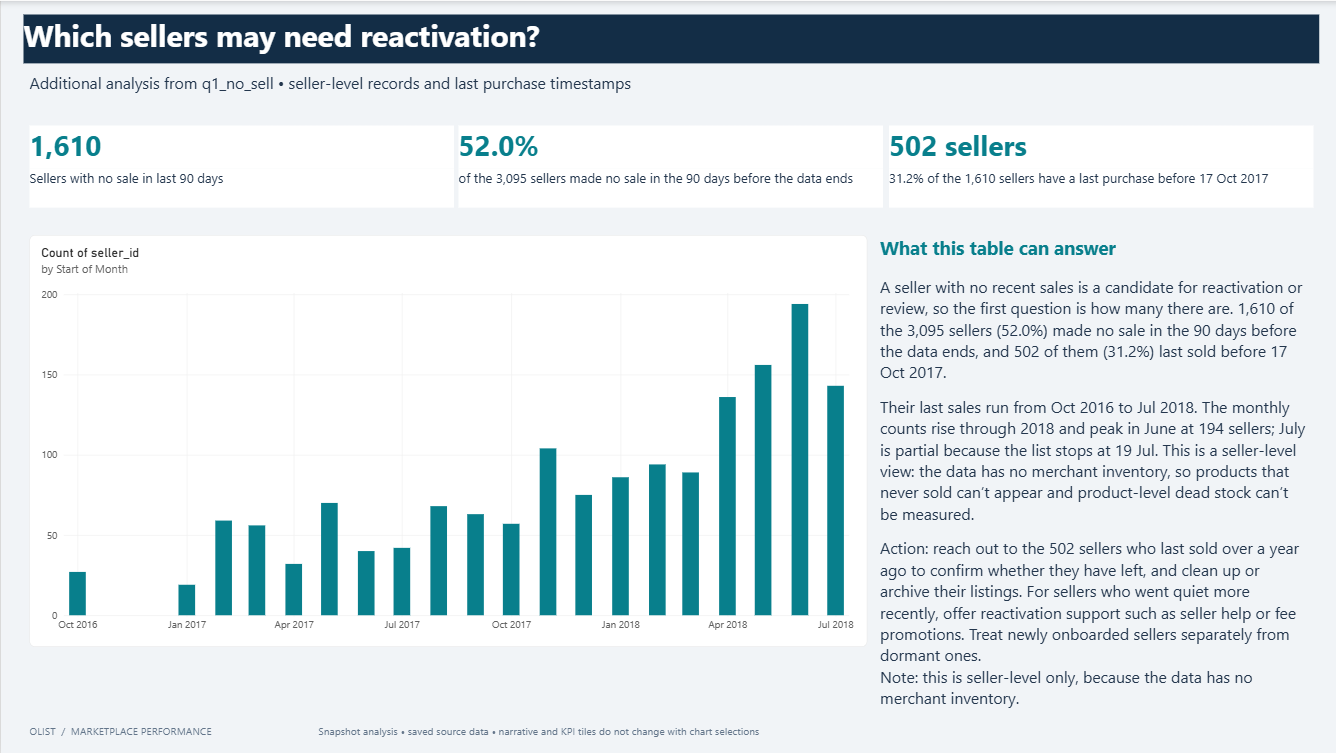

The page's visual inventory and layout, read from the dashboard file:
{"tool":"powerbi","page":{"name":"07 | Seller inactivity","canvas":[1920,1080],"ordinal":6},"visuals":[{"type":"textbox","box":[32,20,1856,70],"z":0},{"type":"textbox","box":[40,100,1840,62],"z":1000},{"type":"textbox","box":[40,1035,1840,30],"z":2000},{"type":"textbox","box":[40,178,608,62],"z":3000},{"type":"textbox","box":[40,240,608,55],"z":4000},{"type":"textbox","box":[656,178,608,62],"z":5000},{"type":"textbox","box":[656,240,608,55],"z":6000},{"type":"textbox","box":[1272,178,608,62],"z":7000},{"type":"textbox","box":[1272,240,608,55],"z":8000},{"type":"textbox","box":[1260,335,610,48],"z":10000},{"type":"textbox","box":[1259.8,393.7,610.8,641.8],"z":11000},{"type":"clusteredColumnChart","fields":{"Category":["public q1_no_sell.Start of Month"],"Y":["CountNonNull(public q1_no_sell.seller_id)"]},"box":[40,335,1200,590],"z":11001}]}

Visuals, with their boxes in screenshot pixels (x1, y1, x2, y2), scaled from the page's 1920x1080 canvas onto the 1336x753 screenshot:
textbox: region(22, 14, 1314, 63)
textbox: region(28, 70, 1308, 113)
textbox: region(28, 722, 1308, 743)
textbox: region(28, 124, 451, 167)
textbox: region(28, 167, 451, 206)
textbox: region(456, 124, 880, 167)
textbox: region(456, 167, 880, 206)
textbox: region(885, 124, 1308, 167)
textbox: region(885, 167, 1308, 206)
textbox: region(877, 234, 1301, 267)
textbox: region(877, 274, 1302, 722)
clusteredColumnChart - public q1_no_sell.Start of Month x CountNonNull(public q1_no_sell.seller_id): region(28, 234, 863, 645)
